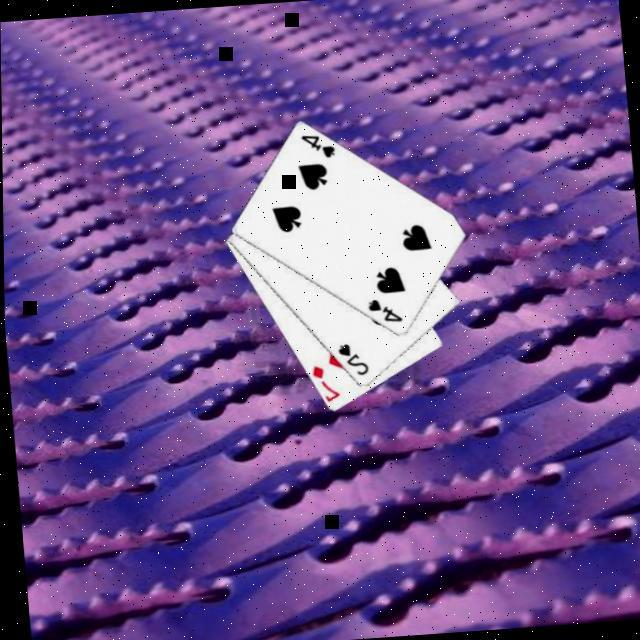2S: (334, 338, 372, 378)
4S: (365, 292, 405, 326), (299, 129, 339, 162)
7D: (308, 360, 344, 404)
